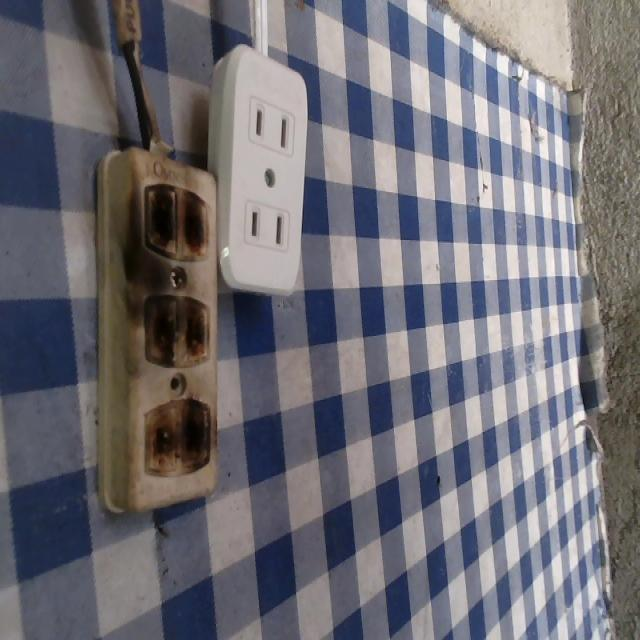-: (139, 178, 212, 270), (138, 397, 218, 479), (141, 291, 214, 373)
